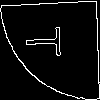T: (25, 25, 72, 58)
